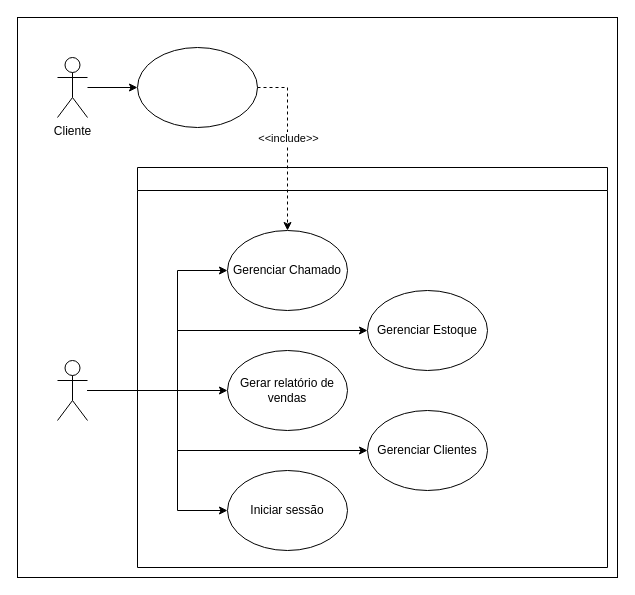
This 635x595 diagram has some shape labels left out. The shapes that lost their labels are listed below. From the top down, each one's centre as x and y in pixels, then its label:
At [197,87]: "Abrir Chamado".
At [372,367]: "Sistema".
At [72,390]: "Funcionário".
